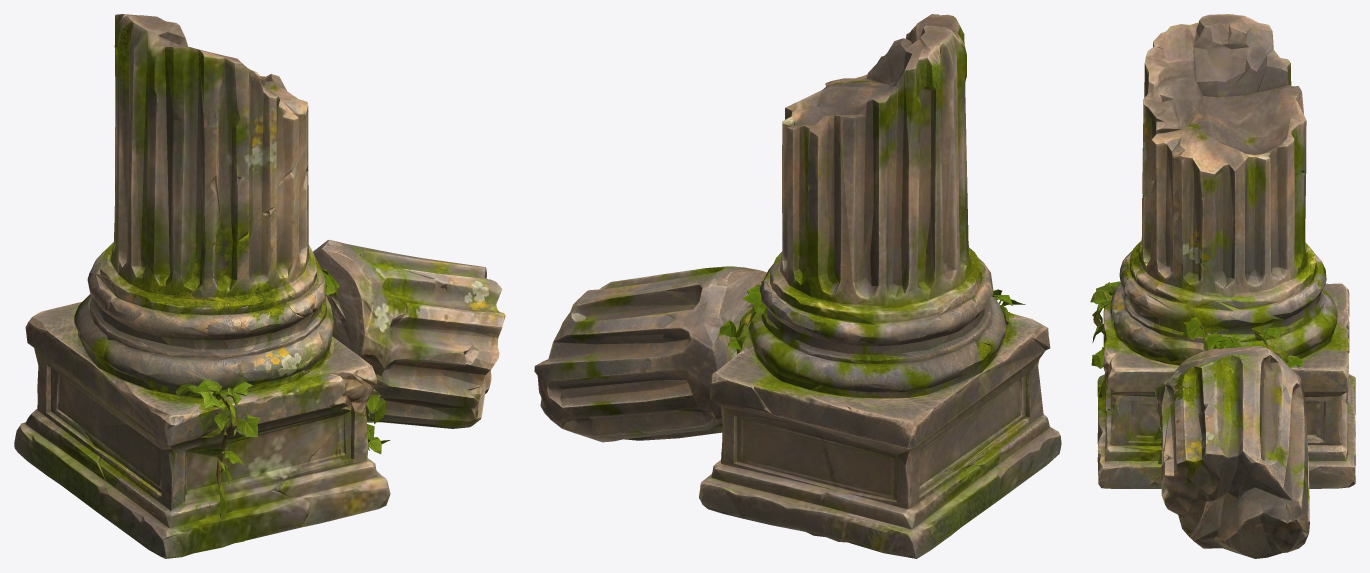
File: column_broken.glb
The picture shows the model from 3 angles, left to right: view 1: azimuth 30°, elevation 25°; view 2: azimuth 150°, elevation 25°; view 3: azimuth 270°, elevation 25°; orthographic projection. The views are drawn at different scales.
Parts seen in each view (by area): view 1: Mesh_0; view 2: Mesh_0; view 3: Mesh_0.
Part boxes in pixels (x1,y1,x2,y2): Mesh_0: [14, 14, 505, 558]; Mesh_0: [534, 14, 1061, 558]; Mesh_0: [1090, 14, 1355, 558].
Bounding box in the file's own units: 1.81 × 1.9 × 1.14.
1 material, 1 textured.
